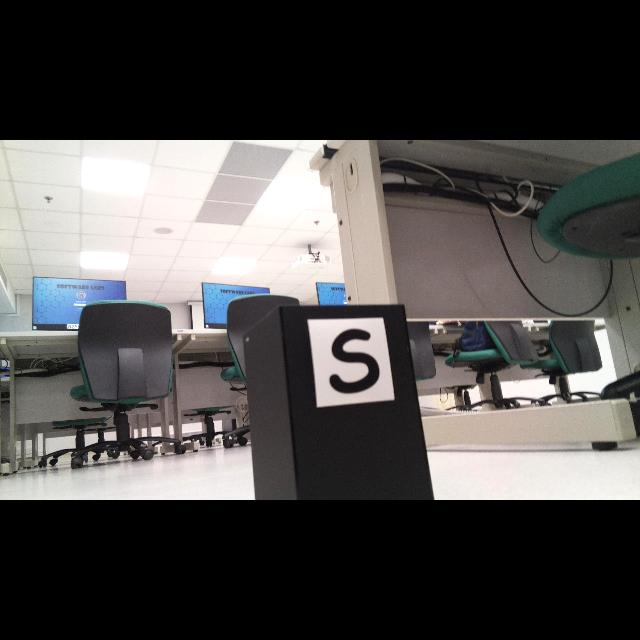S: (329, 329, 380, 394)
